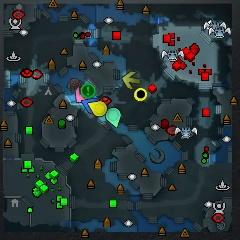Other: (81, 83, 96, 98)
p1: (81, 97, 99, 114)
p2: (105, 108, 121, 128)
p4: (88, 101, 107, 117)
p4Clone: (134, 87, 147, 102)
x1: (75, 86, 86, 103)
x2: (122, 71, 141, 89)
